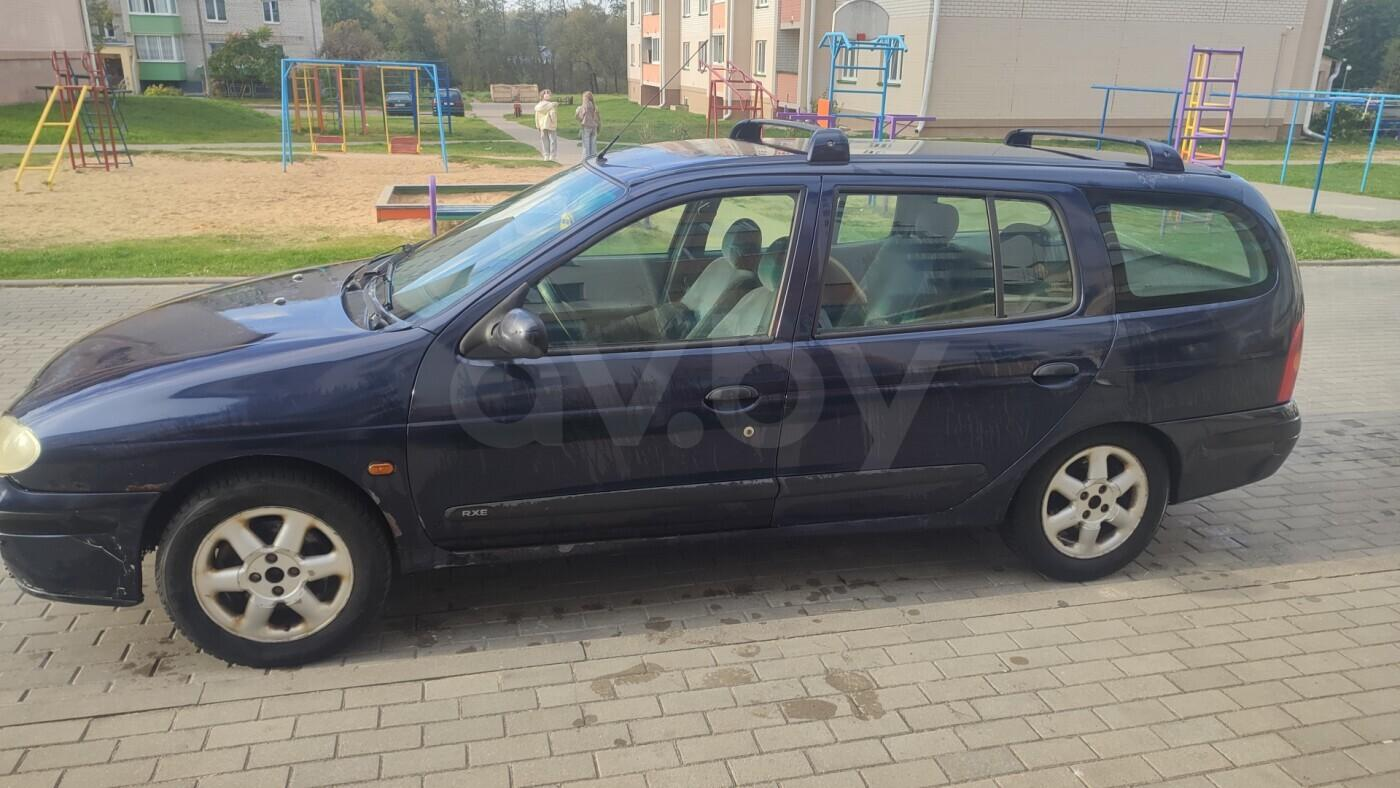Megane_1999-2003: (0, 132, 1303, 671)
